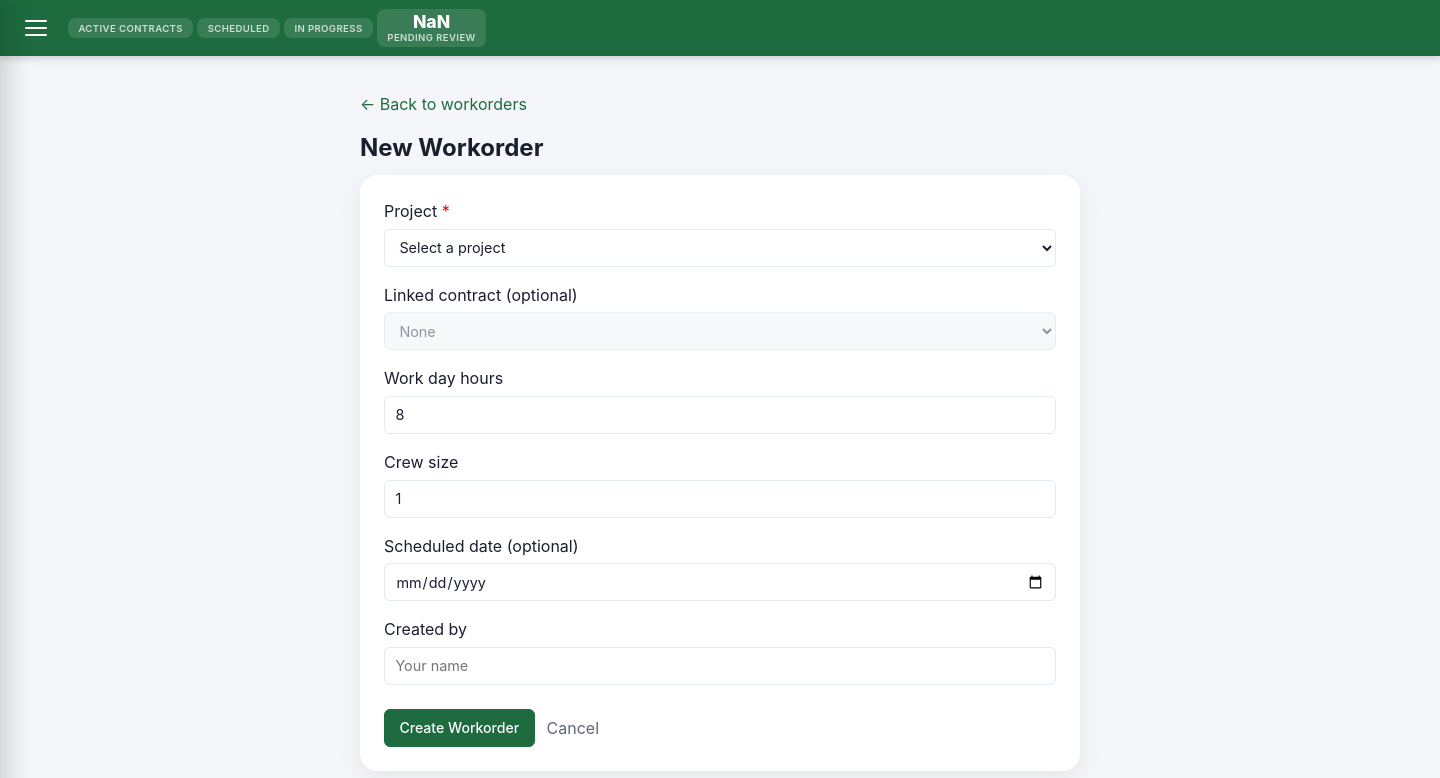
Test: WorkorderNew › shows API error on create failure
Select "Downtown Office (DOW-001)" in the dropdown labelled "Project *" at (720, 248), box left=384, top=229, right=1056, bottom=267
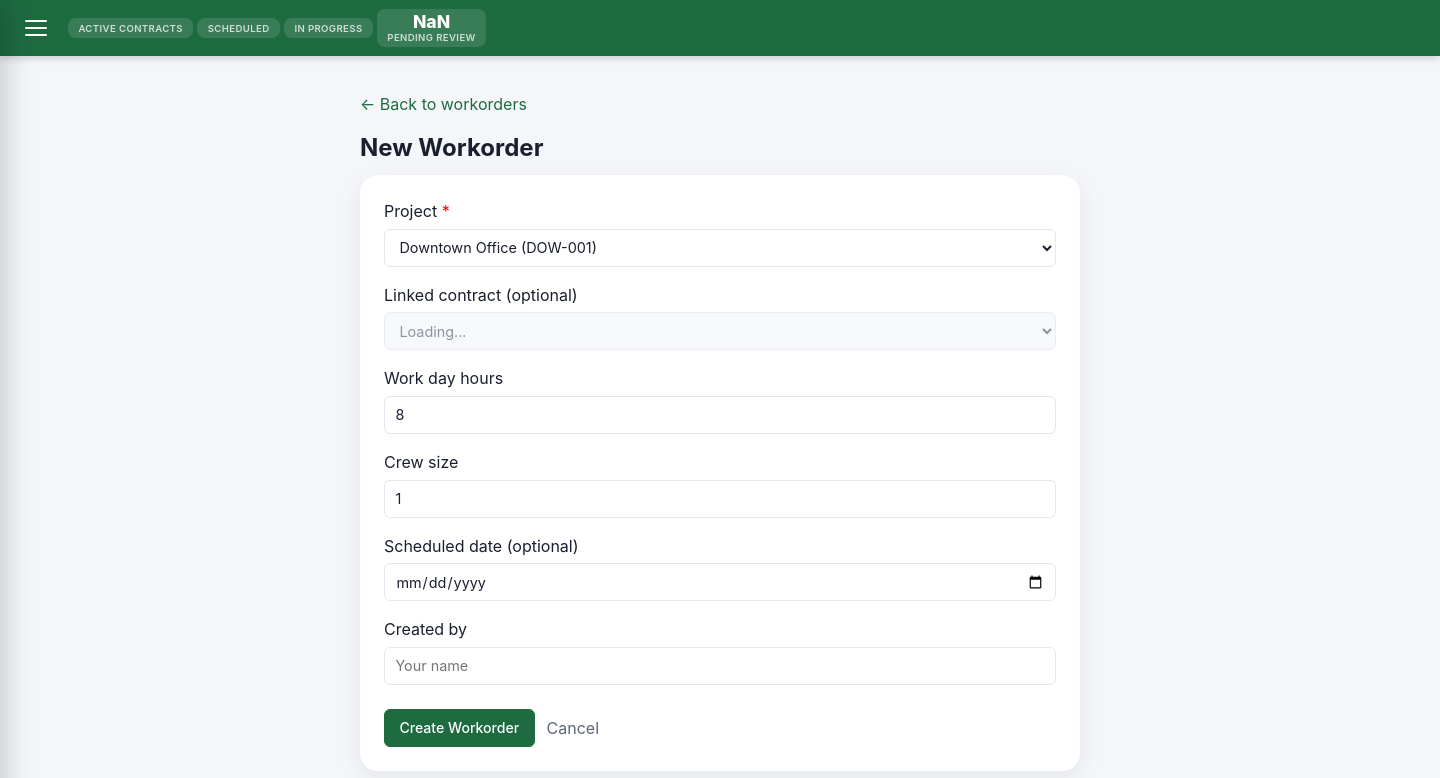
Click the button "Create Workorder" at (459, 728), box left=384, top=709, right=535, bottom=747
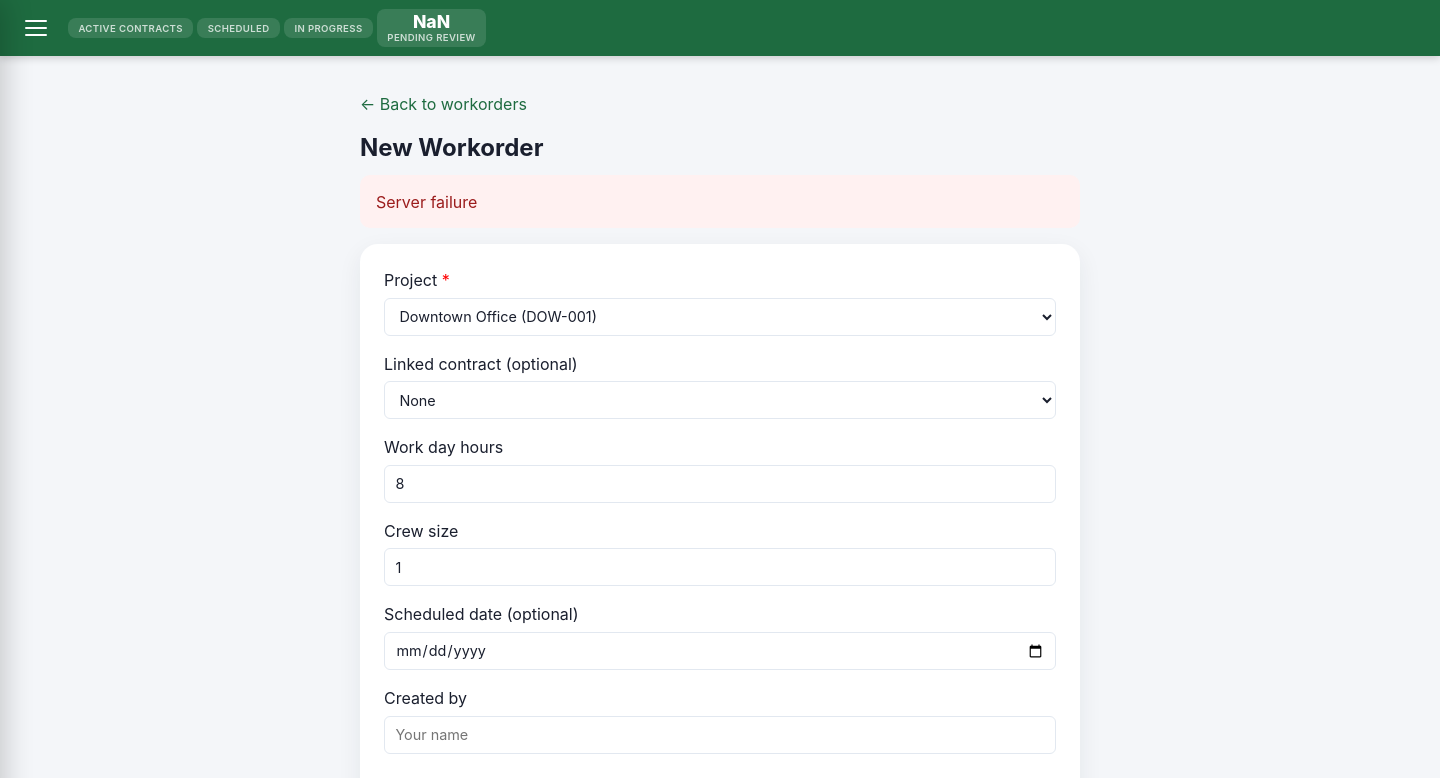
Expected: the text "Server failure" is shown, left=360, top=175, right=1080, bottom=228
